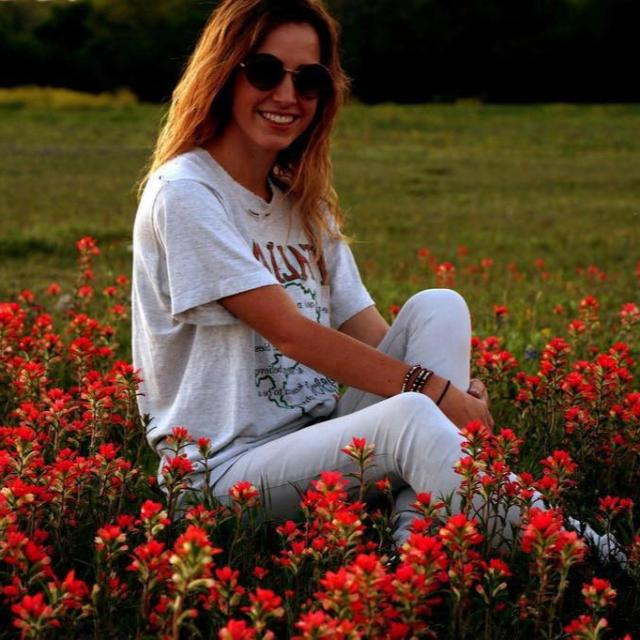adult: (128, 2, 600, 553)
